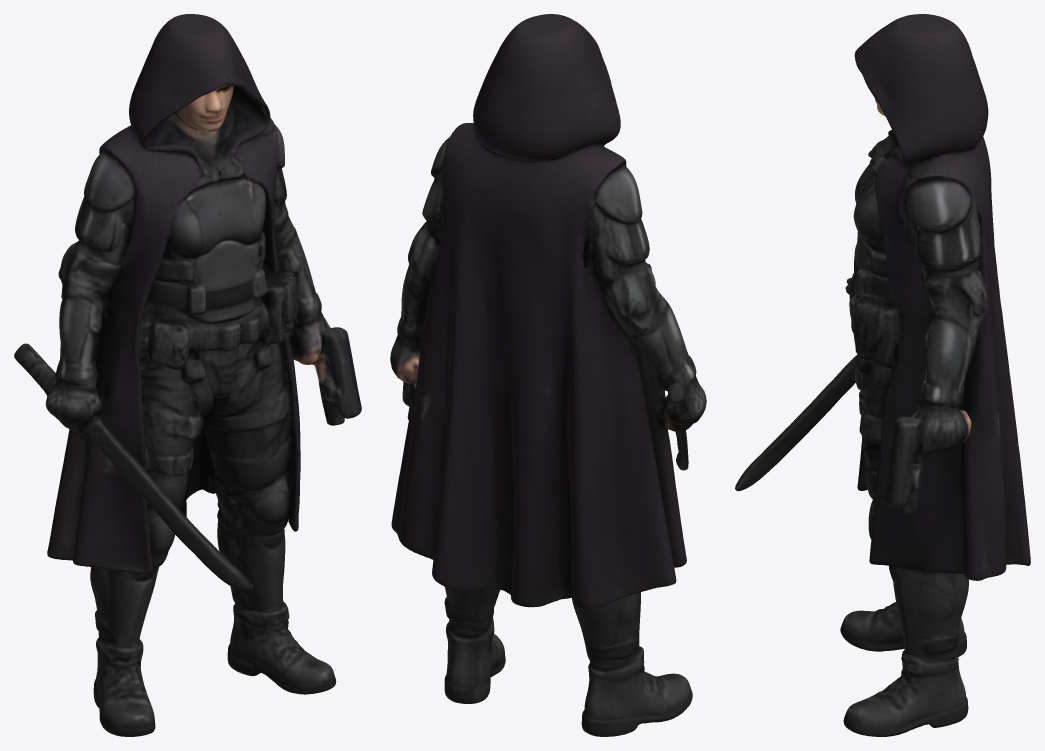
Rendered from char3_fem_soldier.glb.
3 renders of one model, left to right at view 1: azimuth 30°, elevation 25°; view 2: azimuth 150°, elevation 25°; view 3: azimuth 270°, elevation 25°, orthographic. The views are drawn at different scales.
Visible parts, largest first — view 1: world; view 2: world; view 3: world.
Part boxes in pixels (x1,y1,x2,y2): world: [14, 14, 361, 736]; world: [390, 14, 706, 736]; world: [735, 14, 1030, 736].
Size of the model in its own units: 0.3 by 0.6166 by 0.2494.
1 material, 1 textured.
